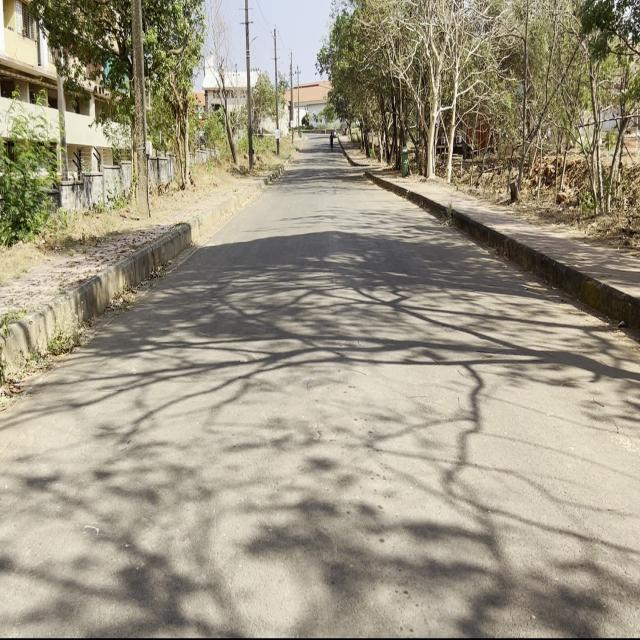Road: (4, 132, 636, 630)
